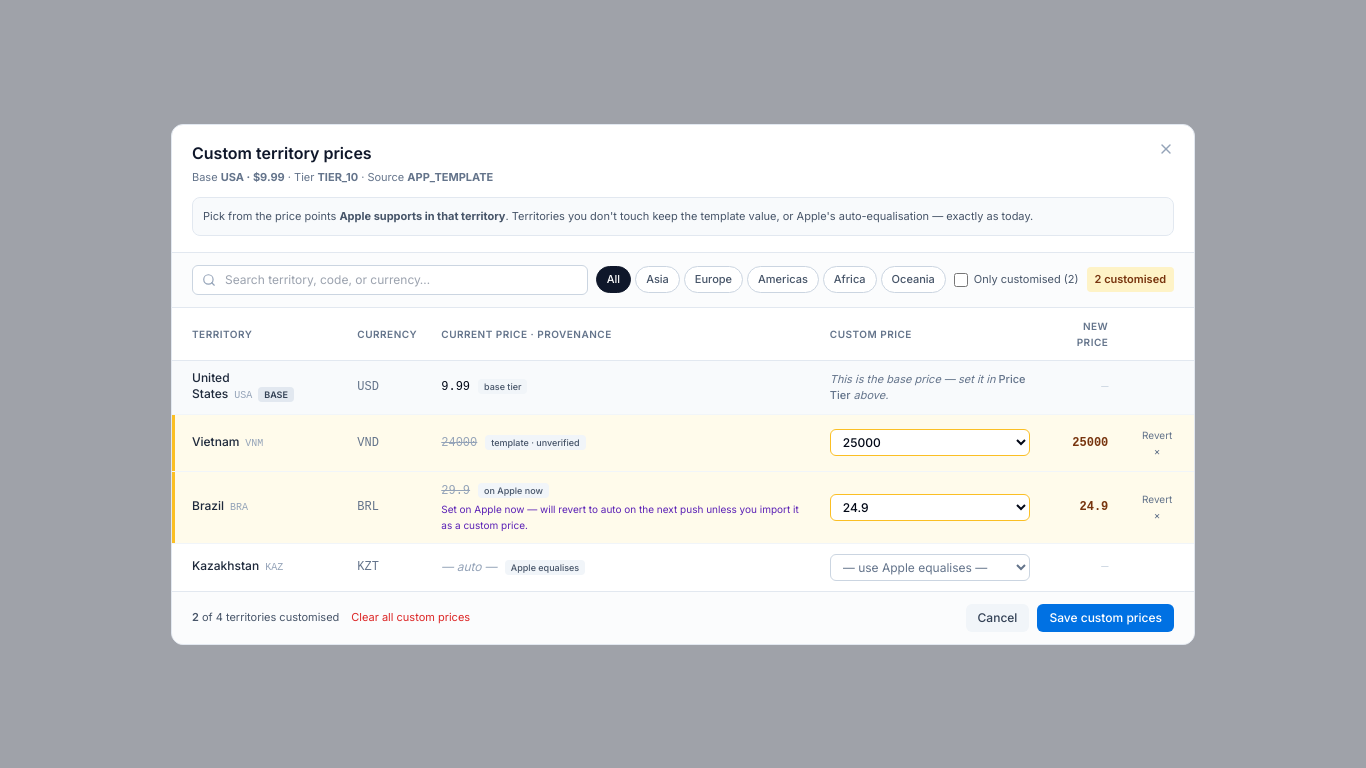
Test: revertibility — one territory and all › Clear all empties the set after confirmation
Expected: the text "Vietnam" is shown, left=192, top=434, right=239, bottom=448
Click the button "Clear all custom prices" at (411, 618), box left=351, top=609, right=470, bottom=626
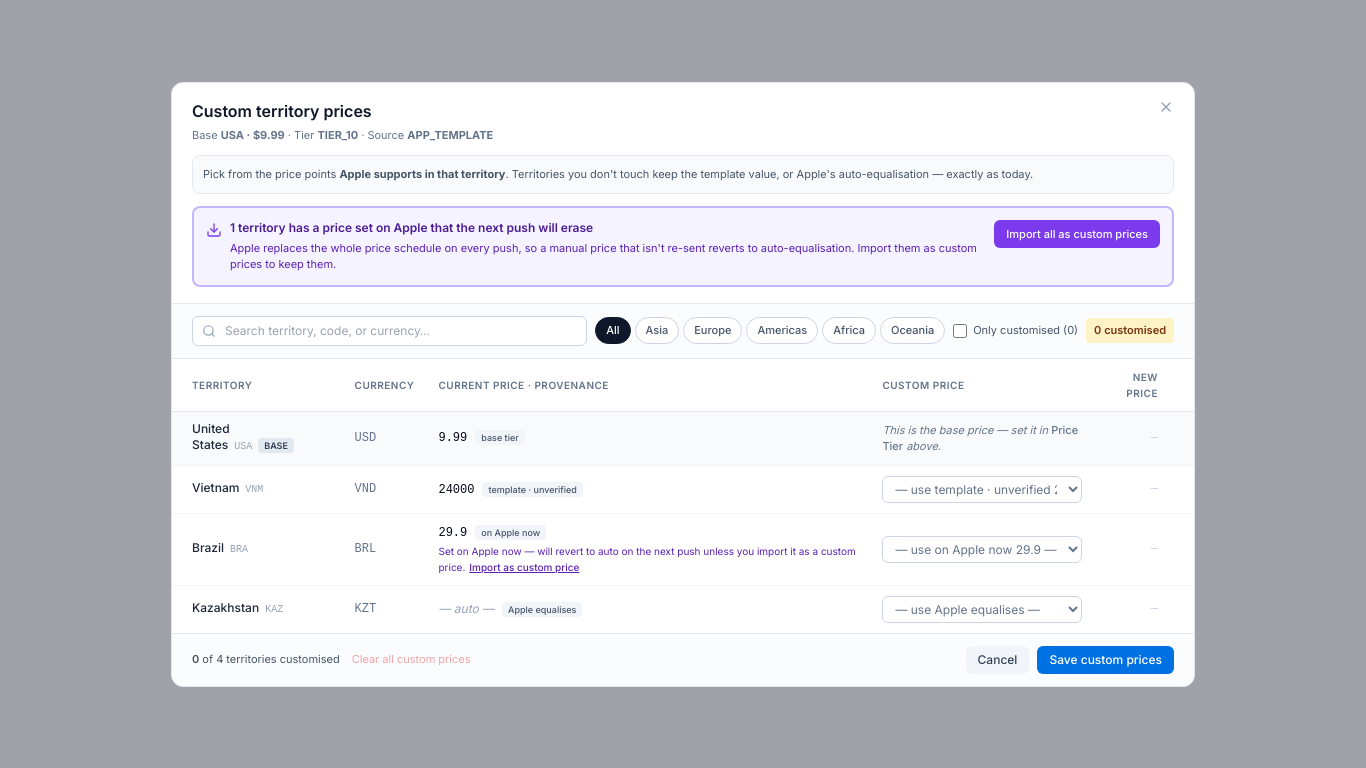
Expected: the text with test id "custom-prices-changed-count" reads "0 customised", left=1086, top=318, right=1174, bottom=343
